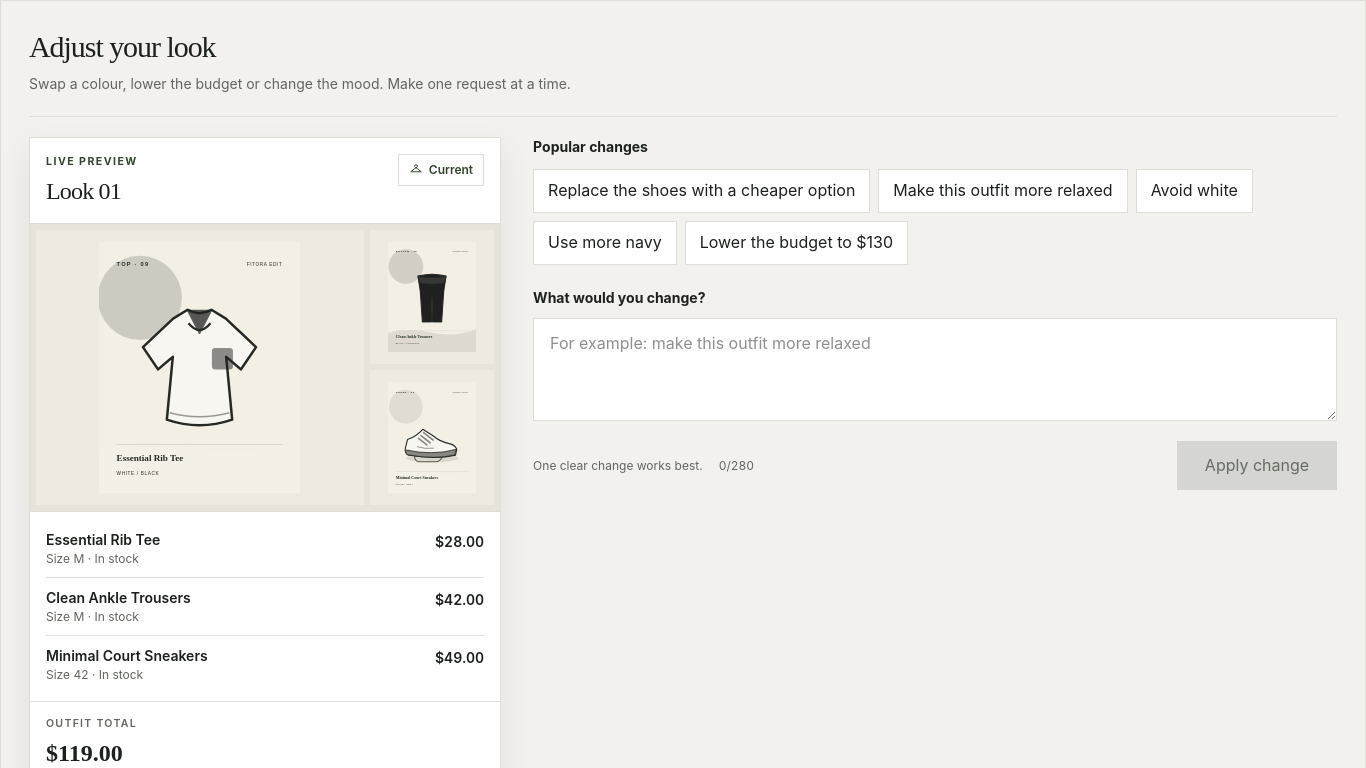
AgentPanel › turns unsupported requests into an editable clarification
This screenshot has width=1366, height=768.
Type "Make it better" into the text box labelled "What would you change?" at (935, 370), box [533,318,1337,421]
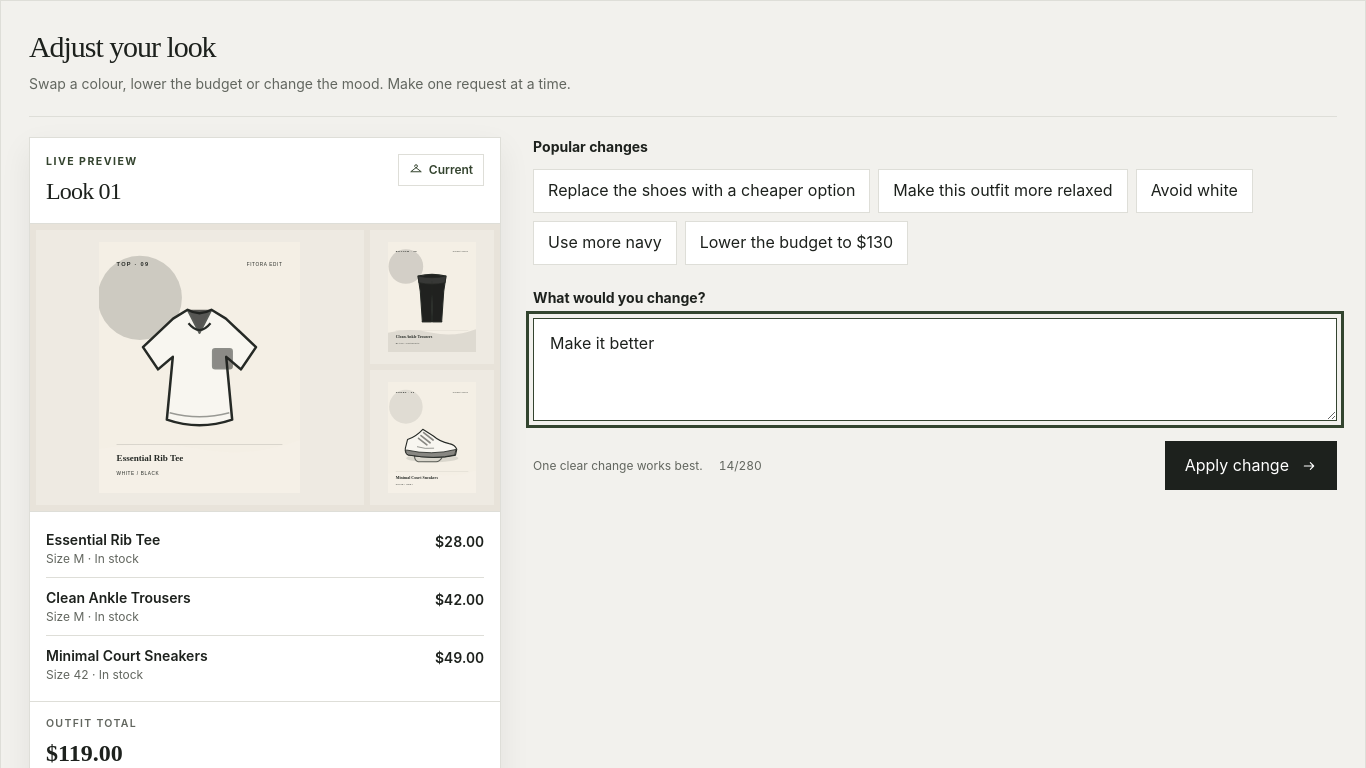
Click the button "Apply change" at (1251, 466), box [1165,441,1337,490]
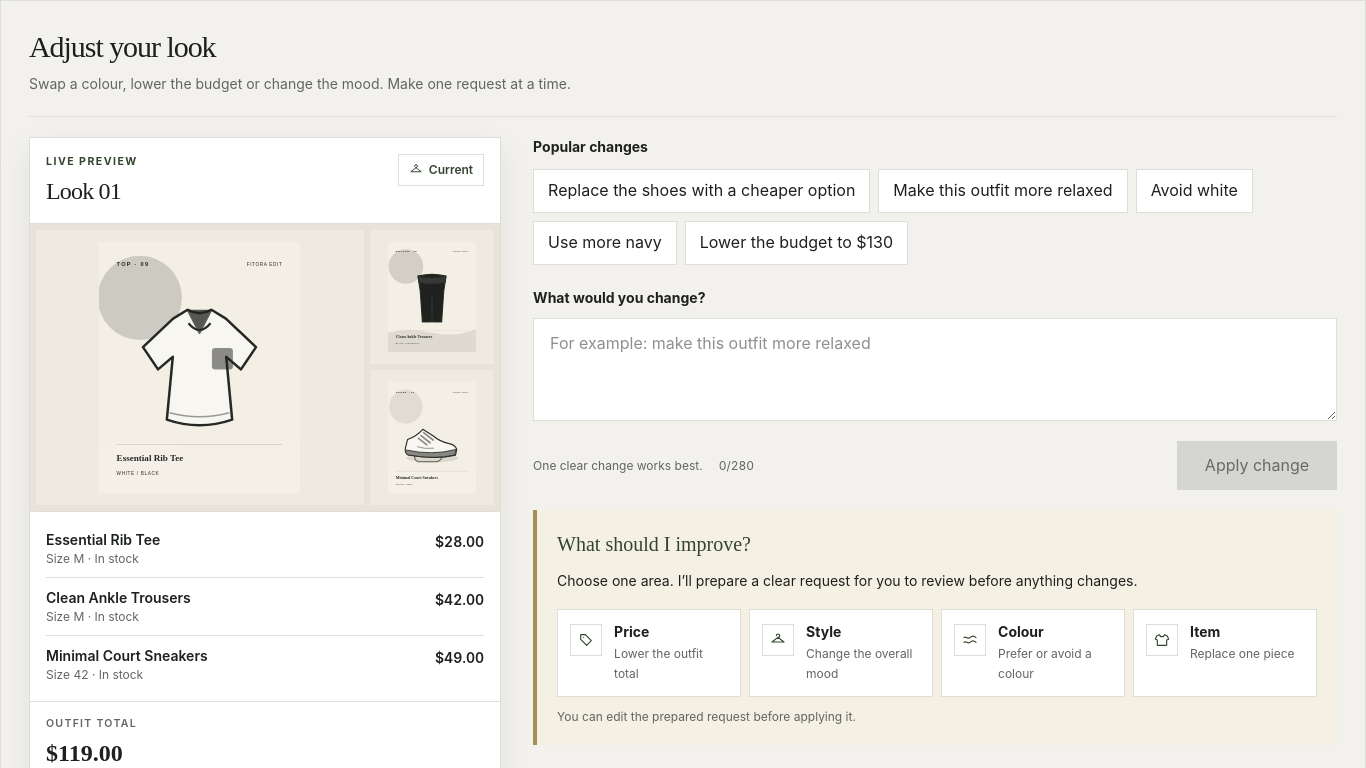
Expected: the text "What should I improve?" is shown, [557,533,751,555]
Expected: the element named "Choose what to improve" is shown, [557,609,1317,697]
Expected: the button "Price Lower the outfit total" is enabled, [557,609,741,697]
Click the button "Style Change the overall mood" at (841, 653), box [749,609,933,697]
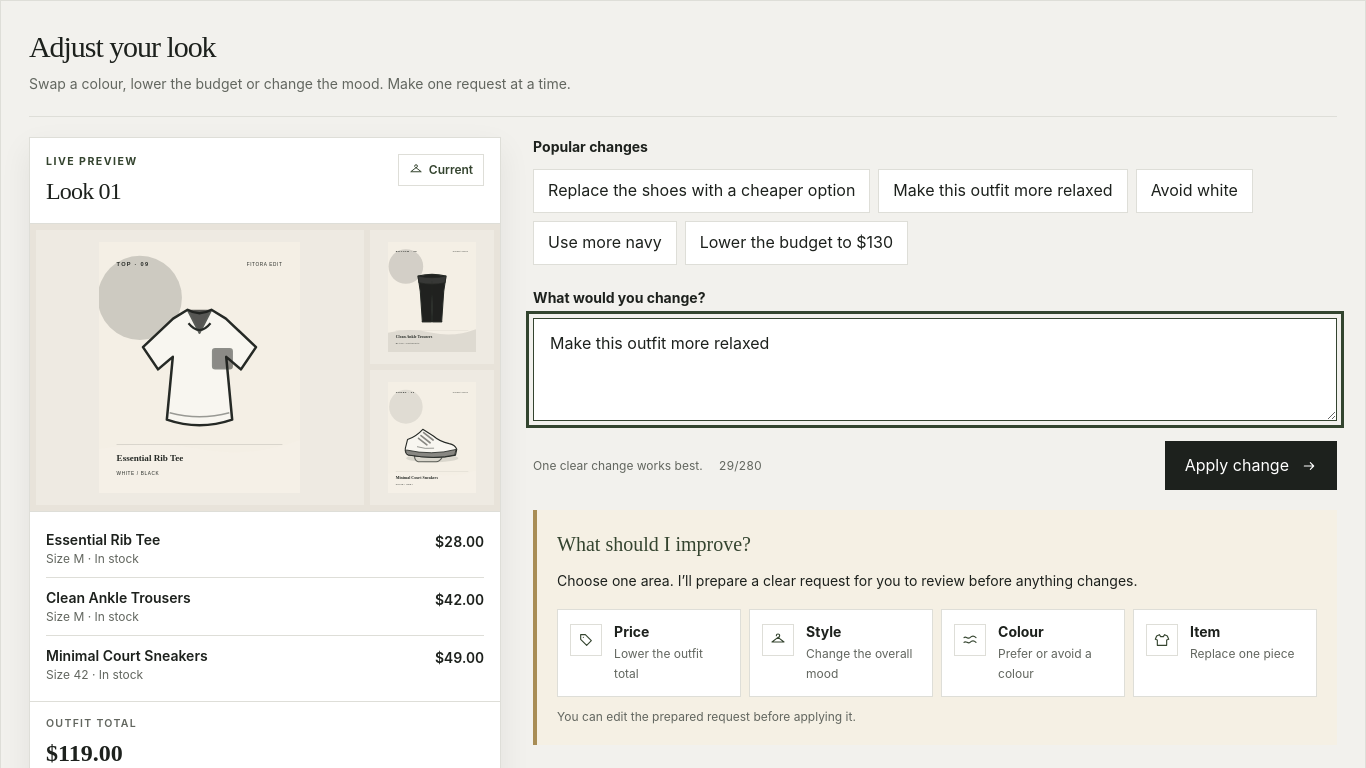
Expected: the text box labelled "What would you change?" holds "Make this outfit more relaxed", [533,318,1337,421]
Expected: the button "Apply change" is enabled, [1165,441,1337,490]
